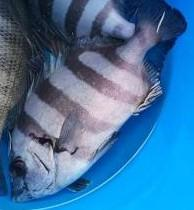fish: (7, 0, 186, 205)
